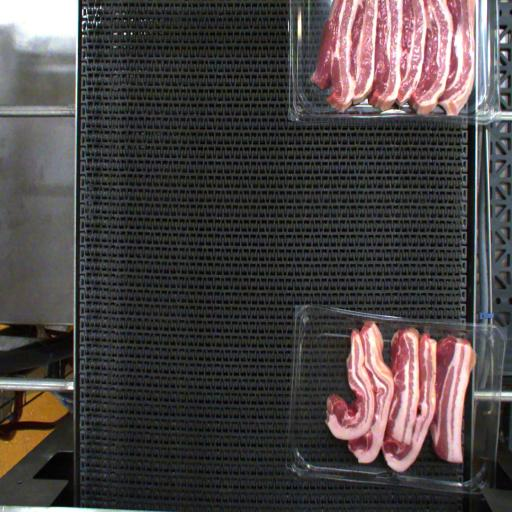packaging-error: (422, 323, 432, 339)
